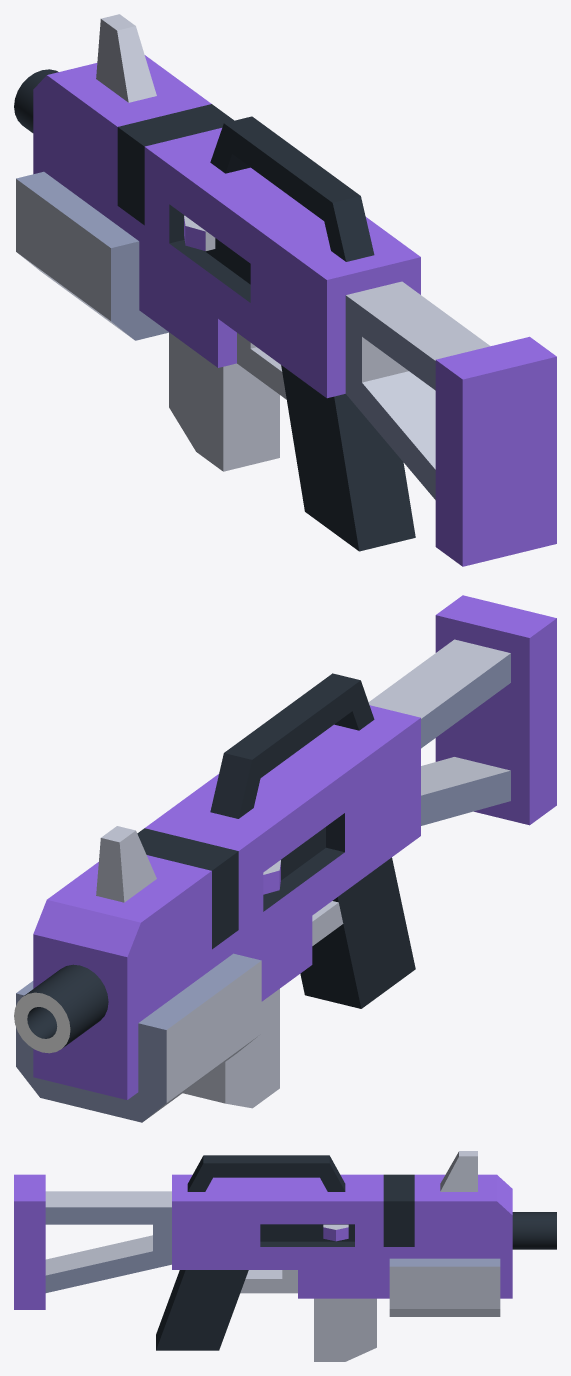
Rendered from blasterD.dae.
3 views of the same model, one above another, from view 1: azimuth 30°, elevation 25°; view 2: azimuth 150°, elevation 25°; view 3: azimuth 270°, elevation 25° (orthographic). The views are drawn at different scales.
Visible parts, largest first — view 1: blasterD; view 2: blasterD; view 3: blasterD.
Part boxes in pixels (x1,y1,x2,y2): blasterD: [14, 14, 556, 566]; blasterD: [14, 595, 556, 1122]; blasterD: [14, 1151, 556, 1361].
Size of the model in its own units: 0.16 by 0.35 by 0.86.
